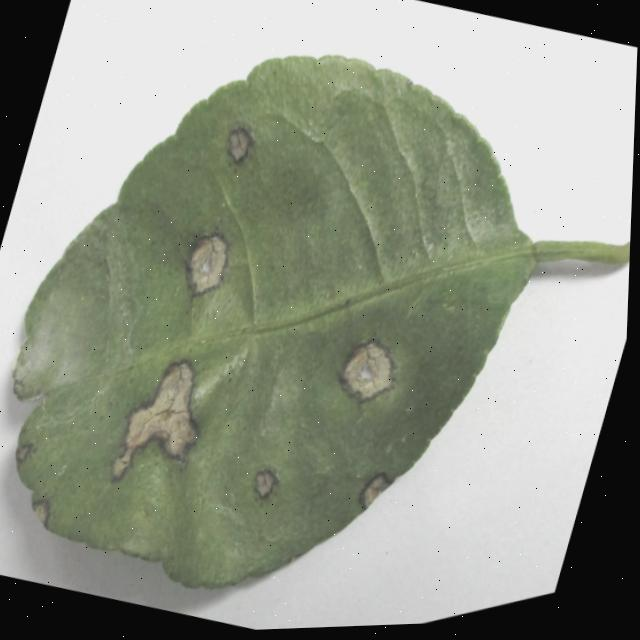antracnose: (12, 55, 630, 585), (110, 359, 197, 480), (340, 340, 393, 399), (188, 234, 226, 293), (358, 471, 391, 508), (227, 125, 252, 161), (253, 468, 277, 497)
